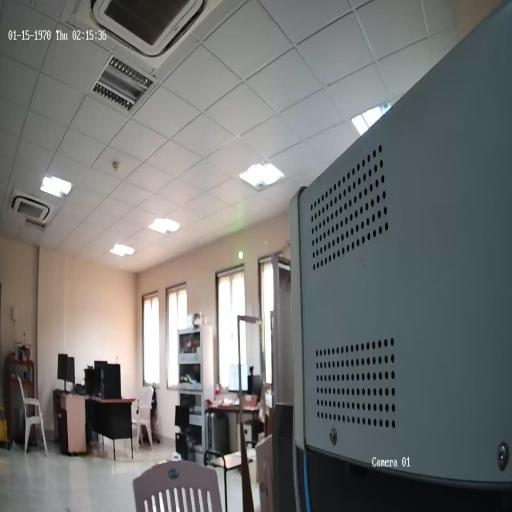laser: (238, 250, 244, 261)
